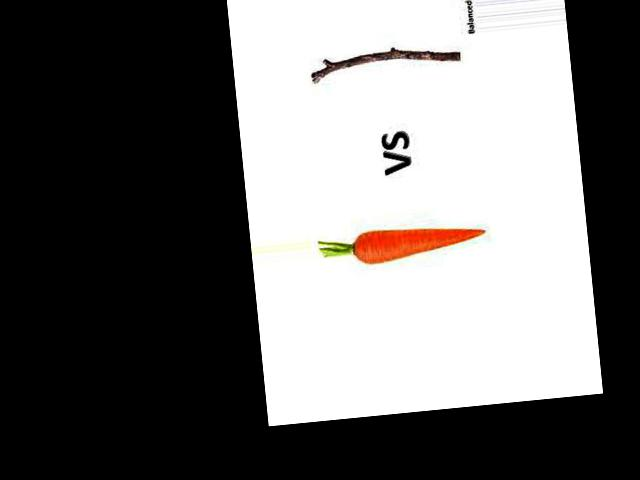carrot: (347, 210, 491, 272)
